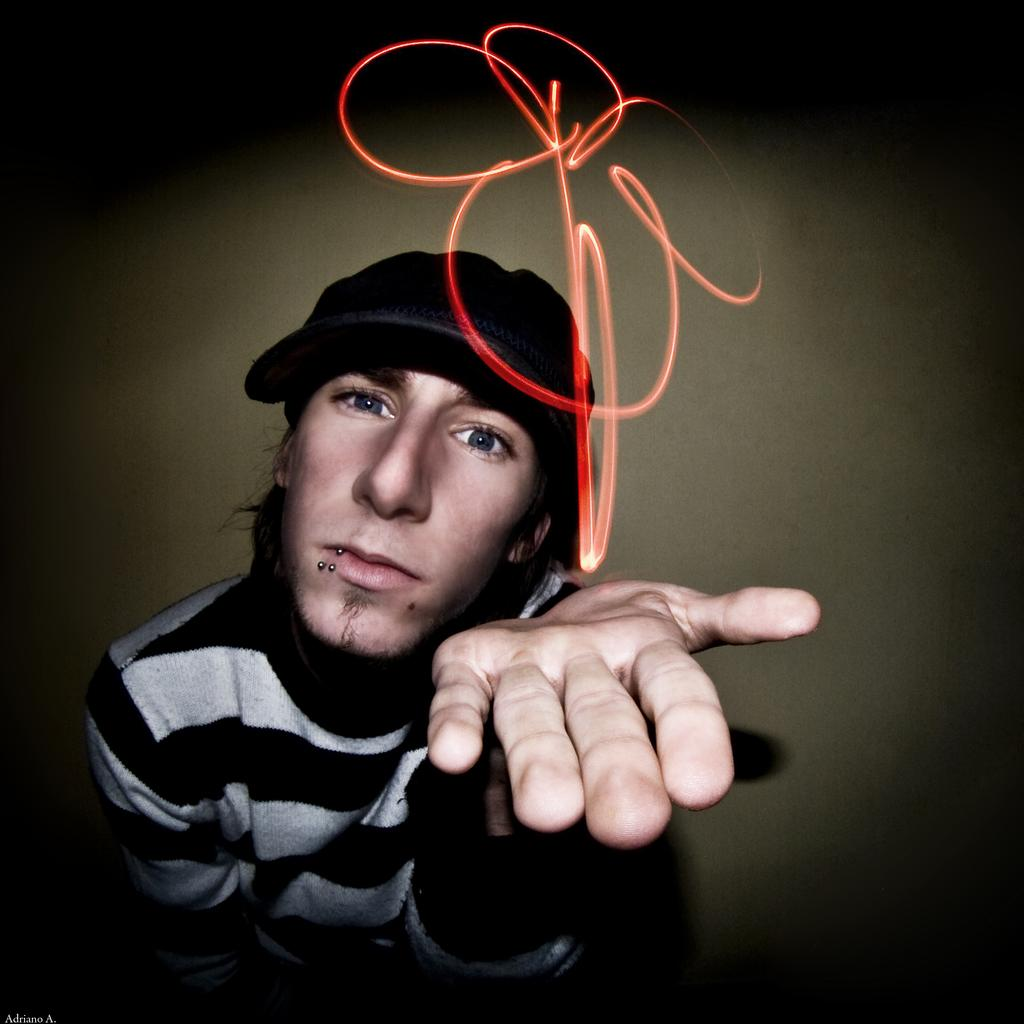Hat: (245, 251, 595, 490)
